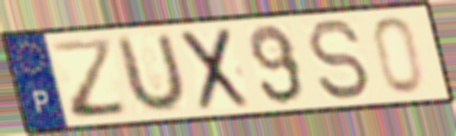0: (368, 13, 430, 98)
9: (247, 22, 305, 107)
S: (303, 18, 374, 103)
U: (115, 30, 189, 117)
X: (178, 24, 252, 114)
Z: (48, 35, 132, 121)
